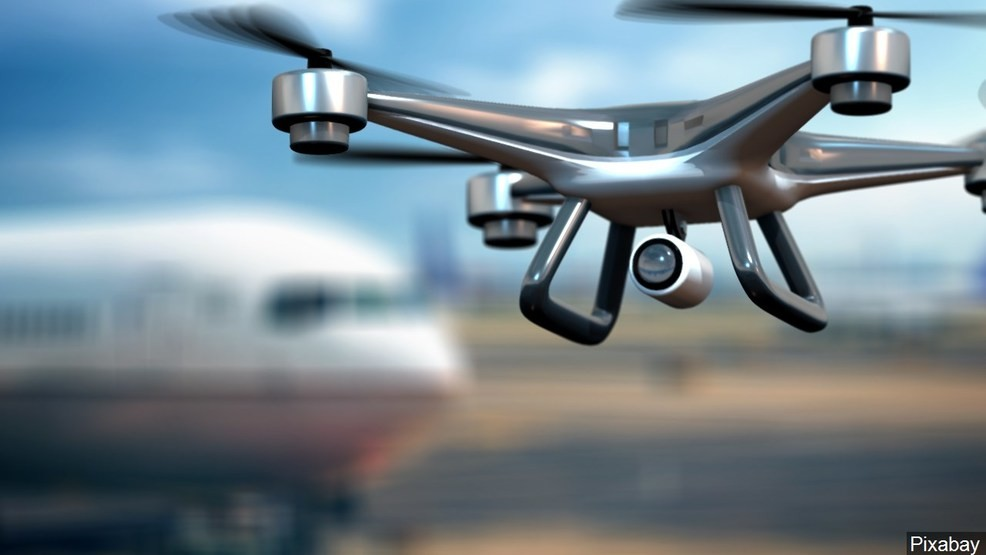drone: (143, 1, 986, 352)
